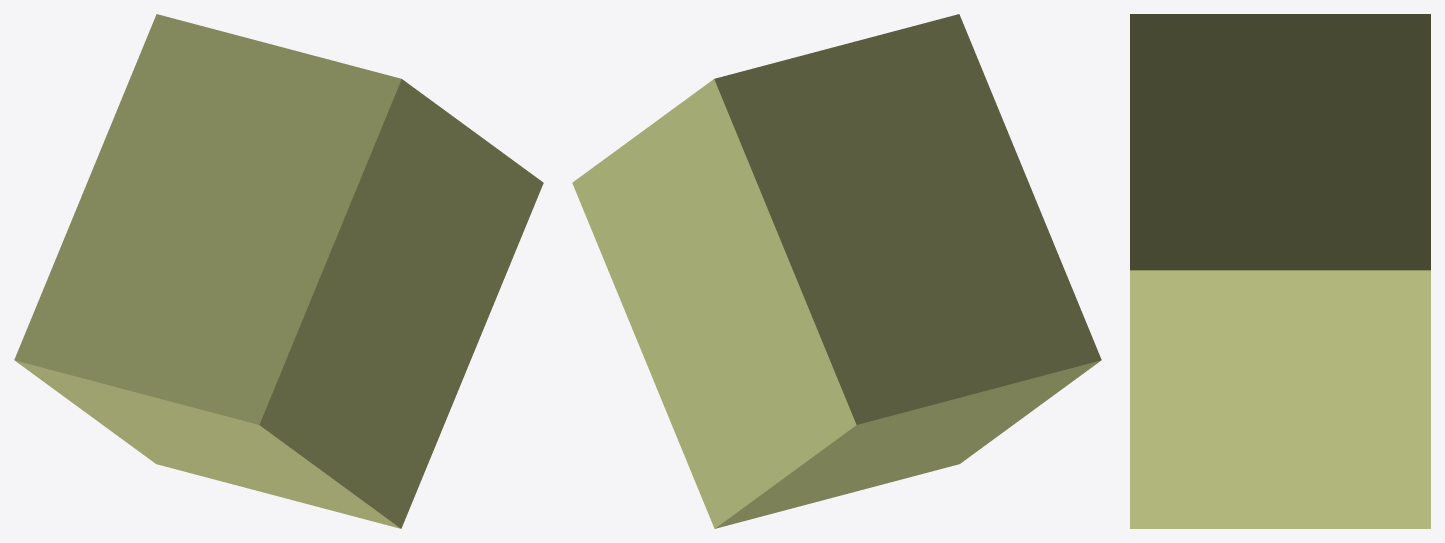
The picture shows the model from 3 angles, left to right: view 1: azimuth 30°, elevation 25°; view 2: azimuth 150°, elevation 25°; view 3: azimuth 270°, elevation 25°; orthographic projection. The views are drawn at different scales.
Parts seen in each view (by area): view 1: 0_1_3_2_2_1_3_1_3_3; view 2: 0_1_3_2_2_1_3_1_3_3; view 3: 0_1_3_2_2_1_3_1_3_3.
Boxes of the visible parts, left/top/right/bottom form: 0_1_3_2_2_1_3_1_3_3: left=14, top=14, right=543, bottom=528; 0_1_3_2_2_1_3_1_3_3: left=572, top=14, right=1101, bottom=528; 0_1_3_2_2_1_3_1_3_3: left=1130, top=14, right=1430, bottom=528.
Bounding box in the file's own units: 9.46 × 10.17 × 6.
